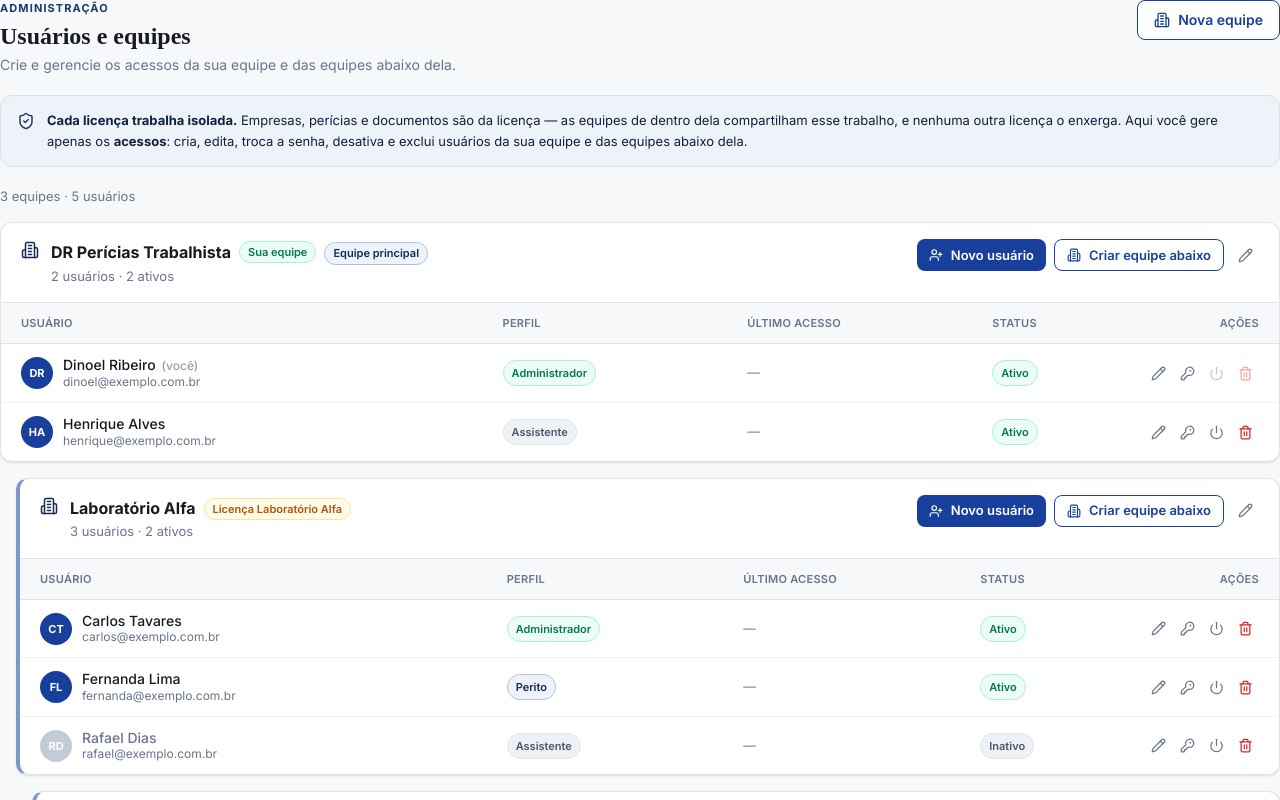
Test: Usuários e equipes — cadastrar › formata o telefone enquanto digita
This screenshot has width=1280, height=800.
Expected: the element named "Equipe DR Perícias Trabalhista" is shown, x1=0 y1=222 x2=1279 y2=462
Click the button "Novo usuário" in the row of "Equipe principal" at point(981, 255), box x1=917 y1=239 x2=1046 y2=271
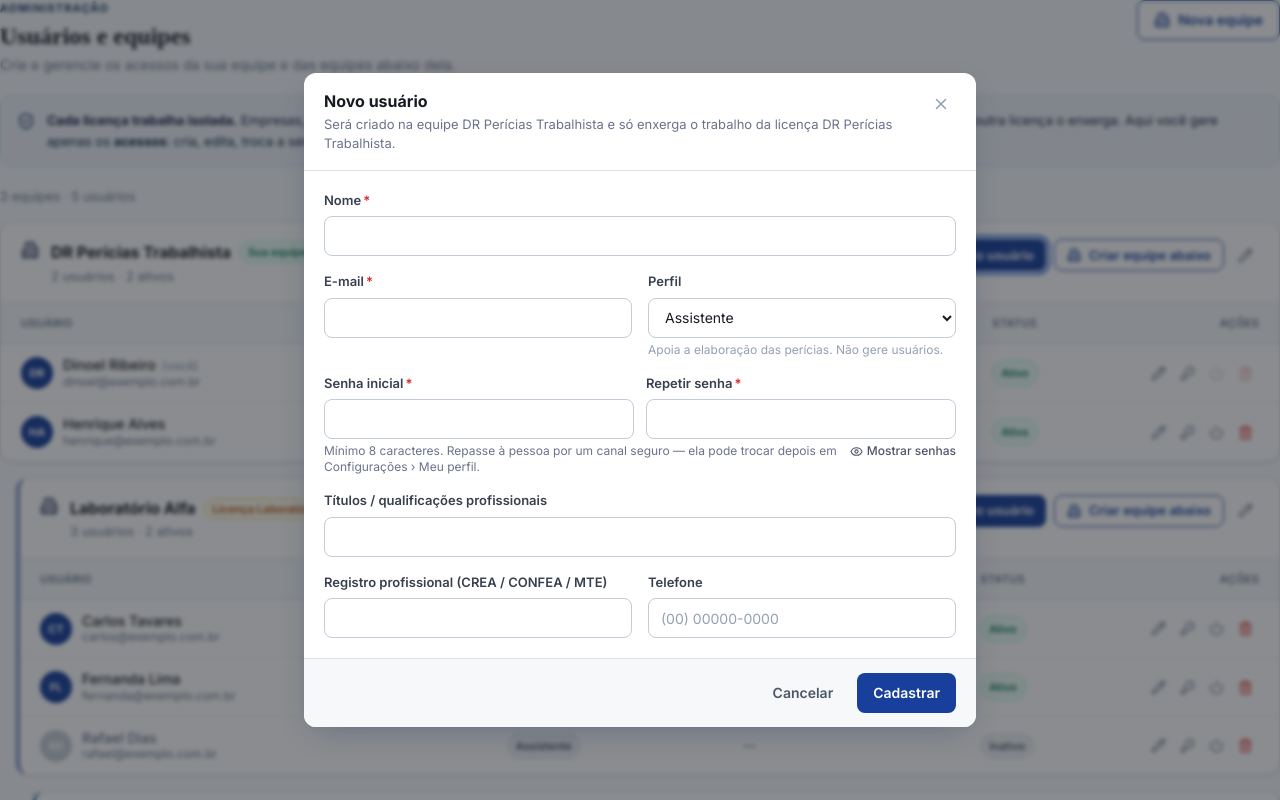
Type "1133224455" into the field labelled "Telefone" at point(802, 618), box x1=648 y1=598 x2=956 y2=638
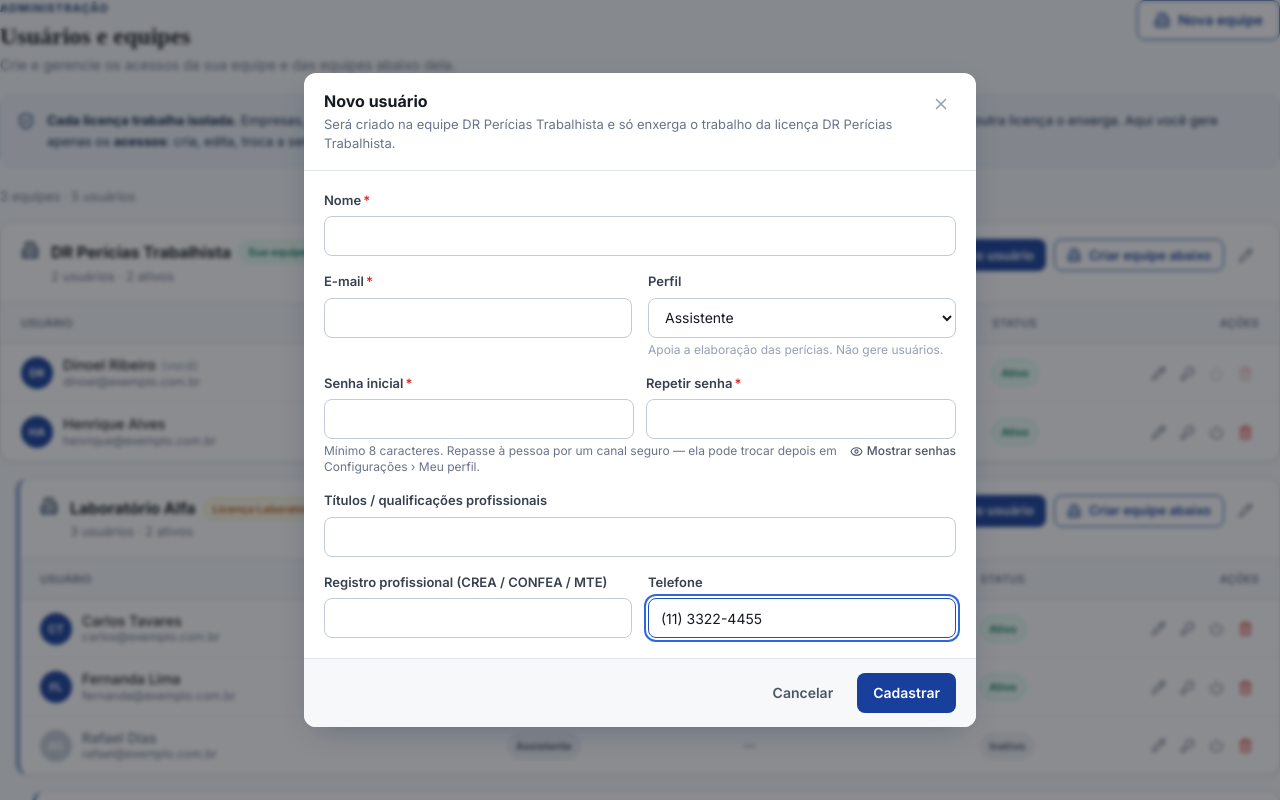
Result: the field labelled "Telefone" holds "(11) 3322-4455" at x1=648 y1=598 x2=956 y2=638
